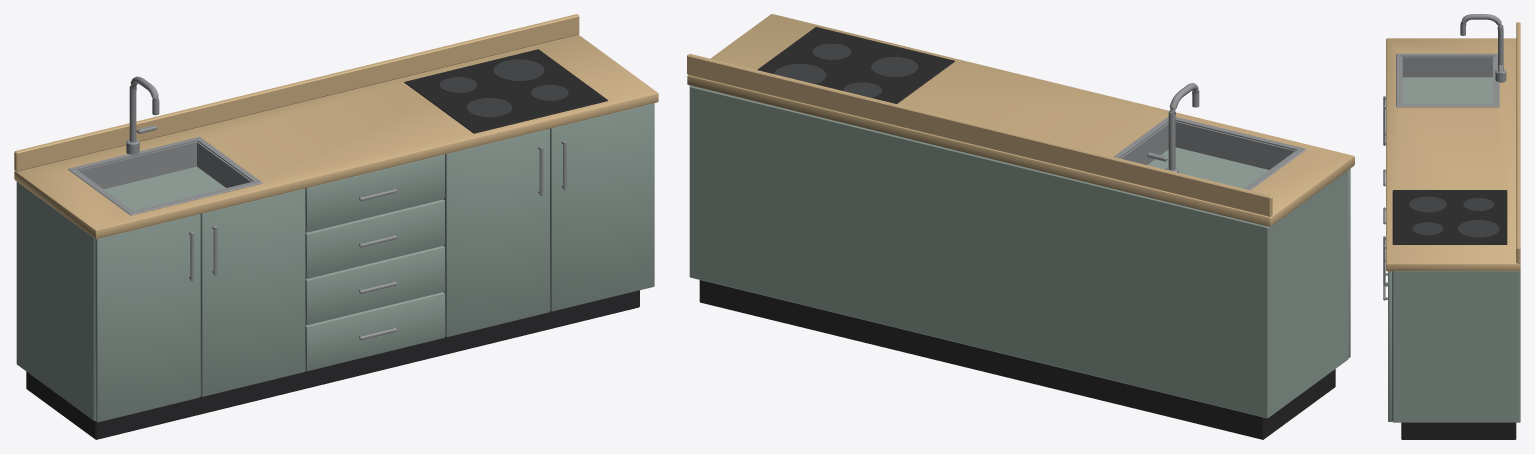
The model's file is KitchenCounter.fbx.
3 renders of one model, left to right at view 1: azimuth 30°, elevation 25°; view 2: azimuth 150°, elevation 25°; view 3: azimuth 270°, elevation 25°, orthographic. The views are drawn at different scales.
Parts seen in each view (by area): view 1: KitchenCounter_Mesh; view 2: KitchenCounter_Mesh; view 3: KitchenCounter_Mesh.
Part boxes in pixels (box(x1,y1,x2,y2)): KitchenCounter_Mesh: box(14, 14, 658, 439); KitchenCounter_Mesh: box(687, 14, 1354, 439); KitchenCounter_Mesh: box(1383, 14, 1520, 439).
Bounding box in the file's own units: 2.42 × 1.23 × 0.622.
